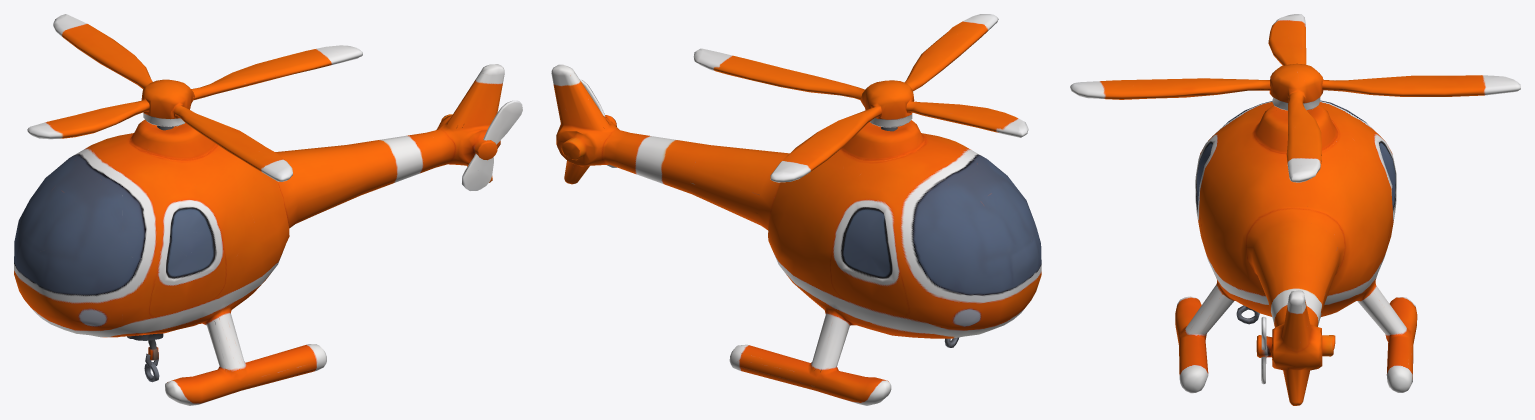
The model's file is Meshy_AI_model.glb.
3 renders of one model, left to right at view 1: azimuth 30°, elevation 25°; view 2: azimuth 150°, elevation 25°; view 3: azimuth 270°, elevation 25°, orthographic.
Parts seen in each view (by area): view 1: geometry_0; view 2: geometry_0; view 3: geometry_0.
Part boxes in pixels (x1,y1,x2,y2): geometry_0: (14, 14, 522, 405); geometry_0: (551, 14, 1041, 405); geometry_0: (1070, 14, 1520, 405).
Bounding box in the file's own units: 0.9536 × 0.5239 × 0.7681.
Materials: 1 (1 with a texture image).
